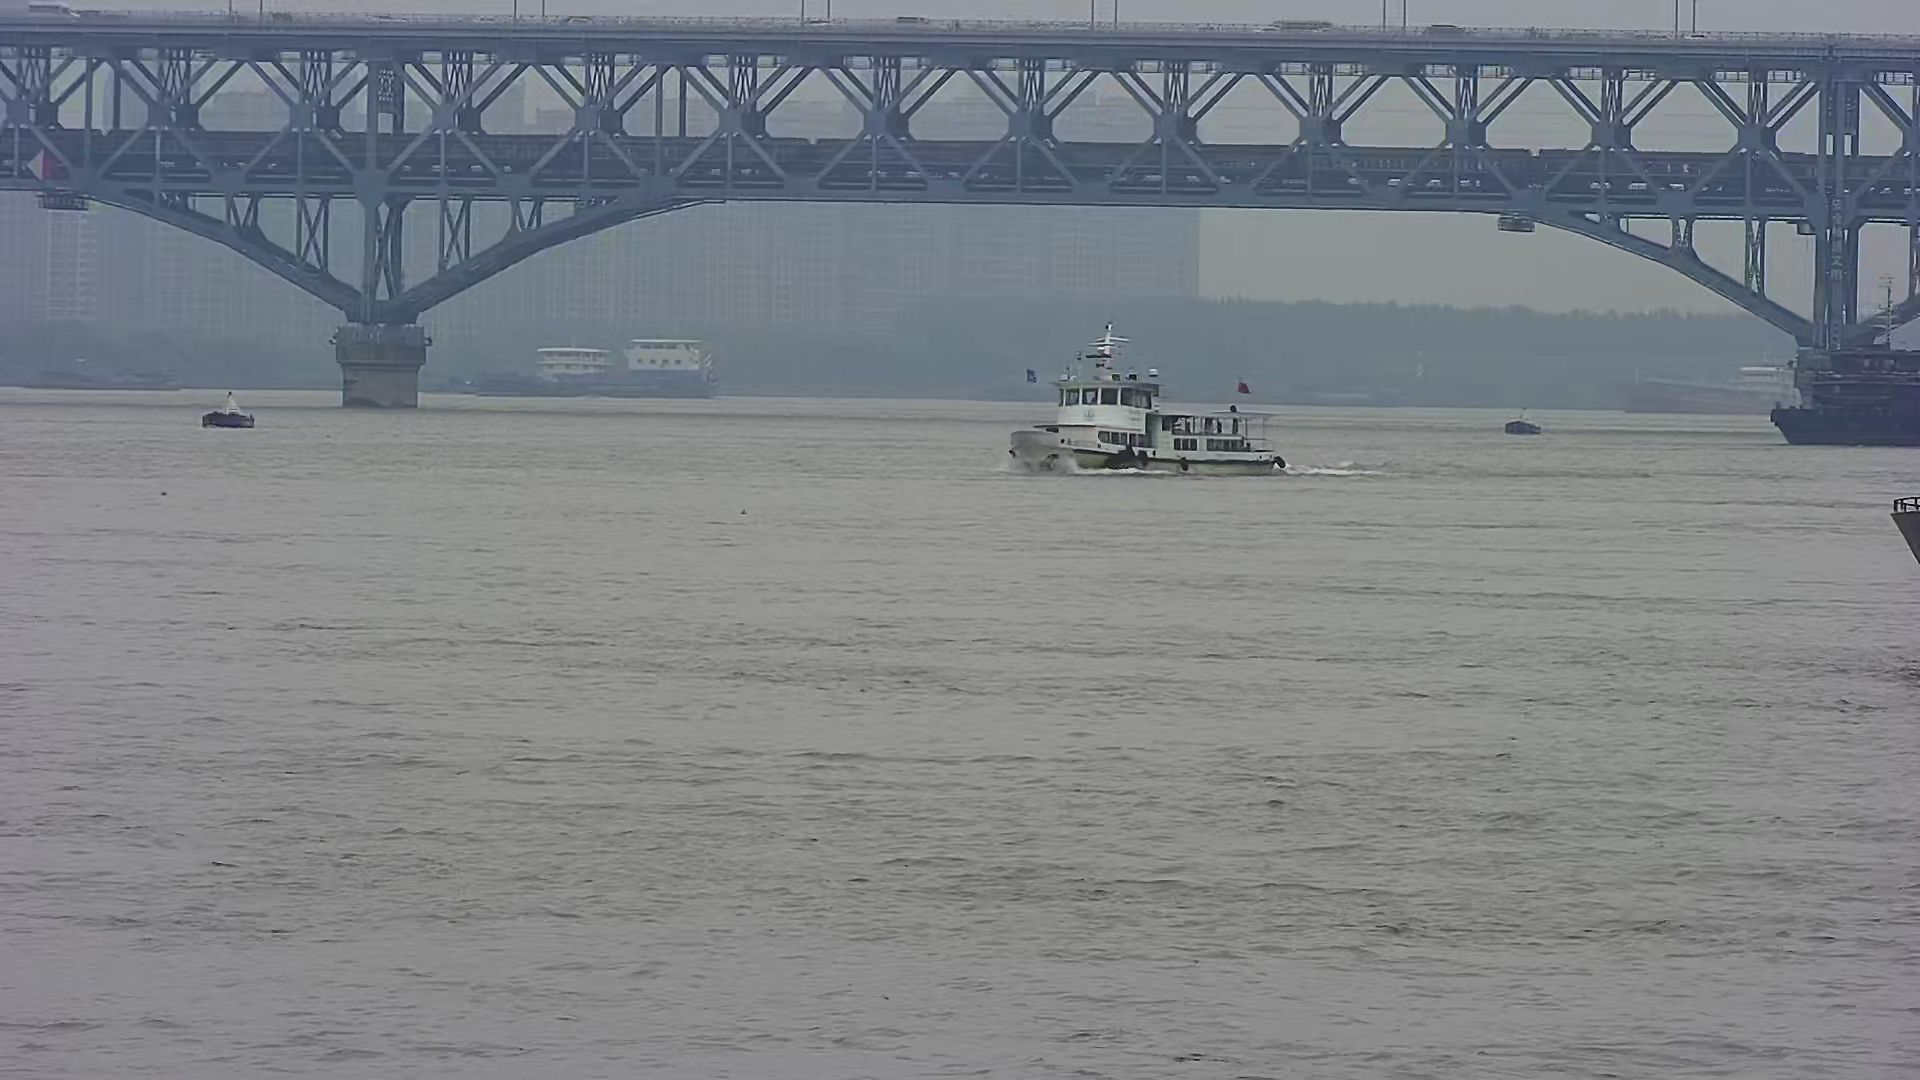boat: (198, 384, 272, 436), (1486, 396, 1559, 444)
bridge: (5, 1, 1915, 411)
ship: (1000, 299, 1313, 491), (1763, 265, 1920, 454), (555, 318, 742, 411), (462, 327, 615, 404)
